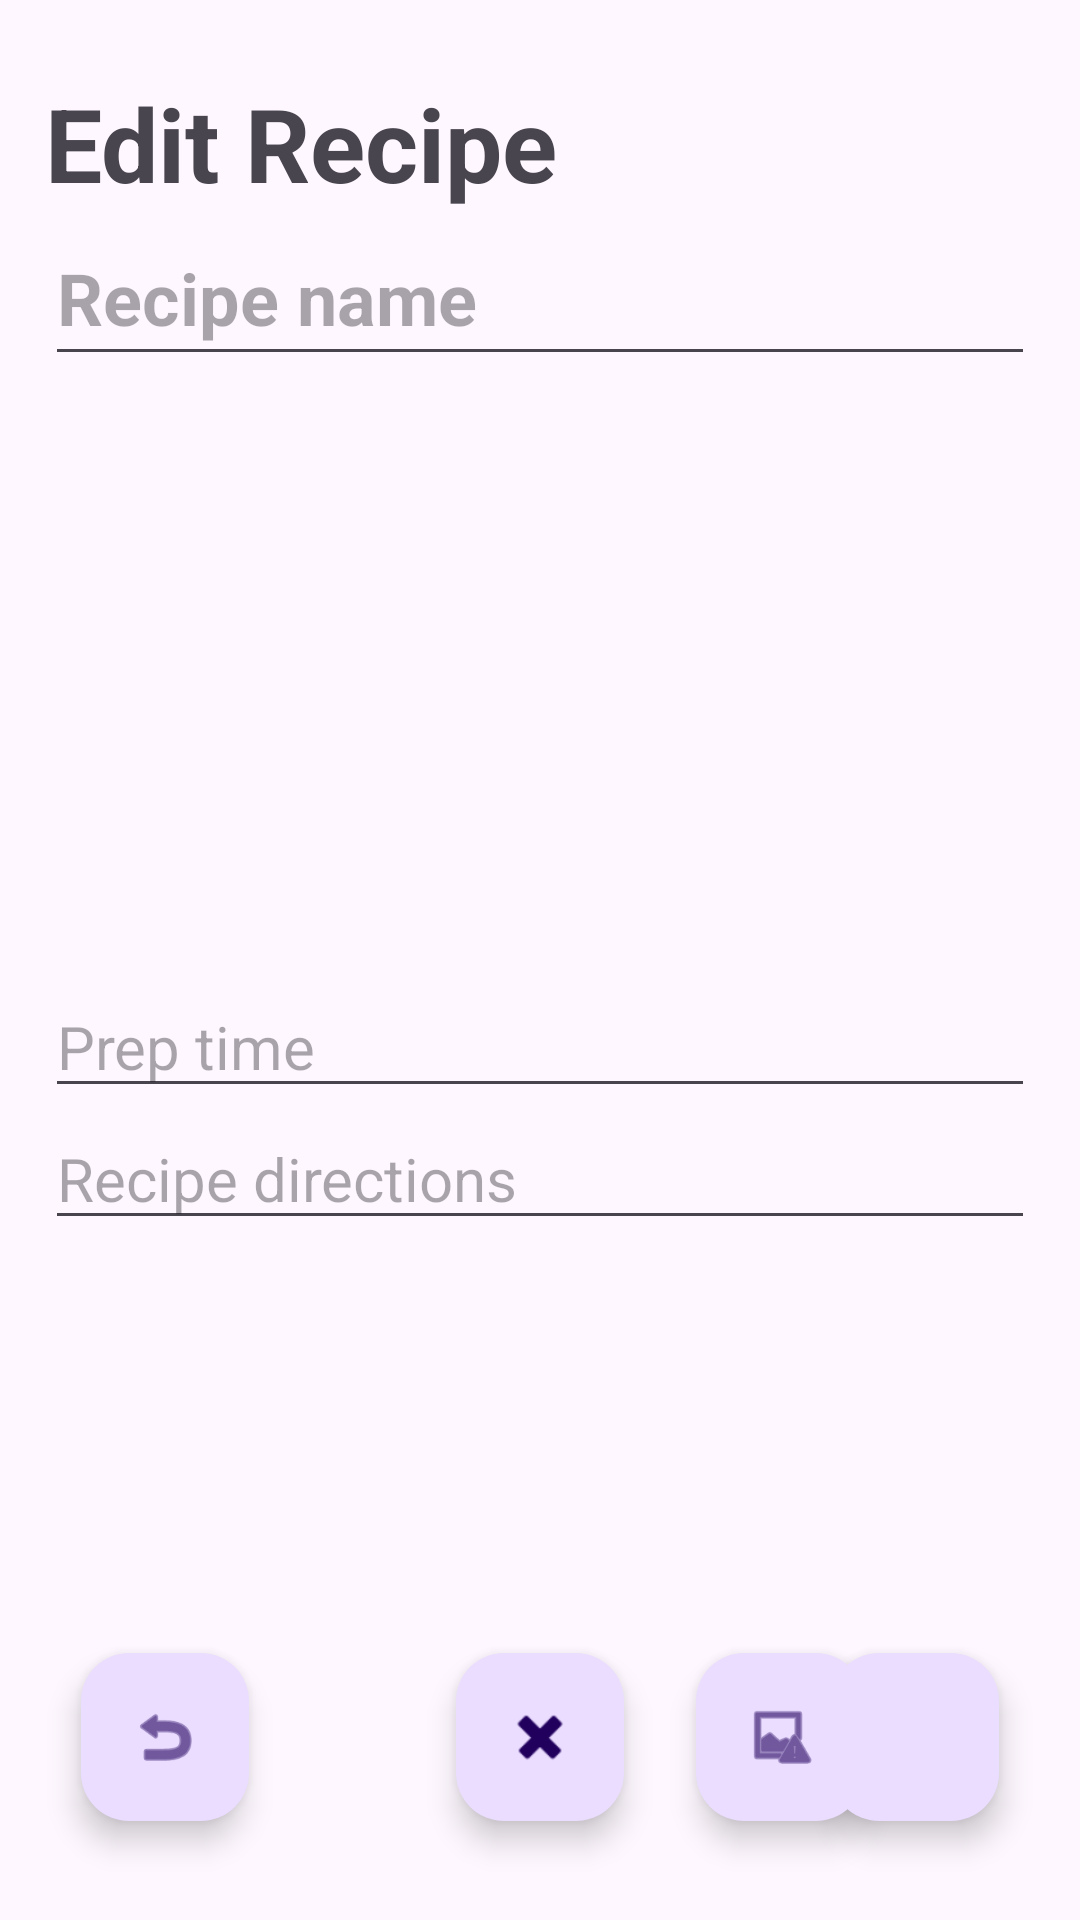

Icon click points for this 1080px x 1920px phone screenshot, format point (x, y):
Delete recipe button: point (540, 1745)
Return to previous screen: point (163, 1745)
